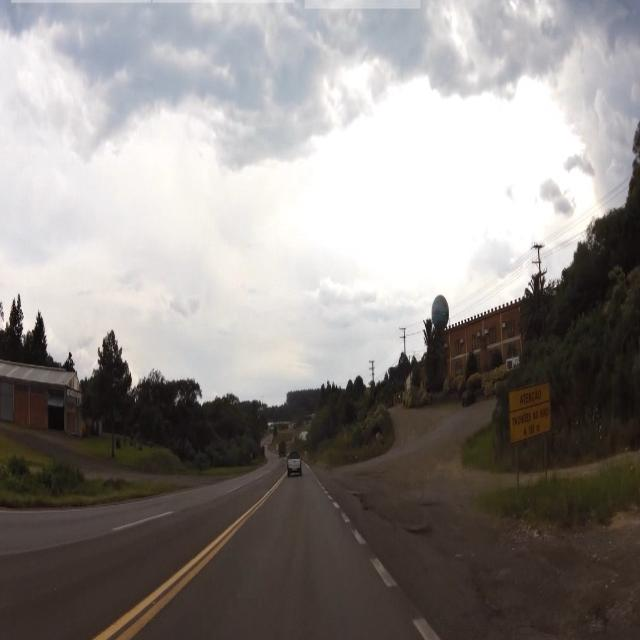ESP-20: (507, 384, 553, 434)
